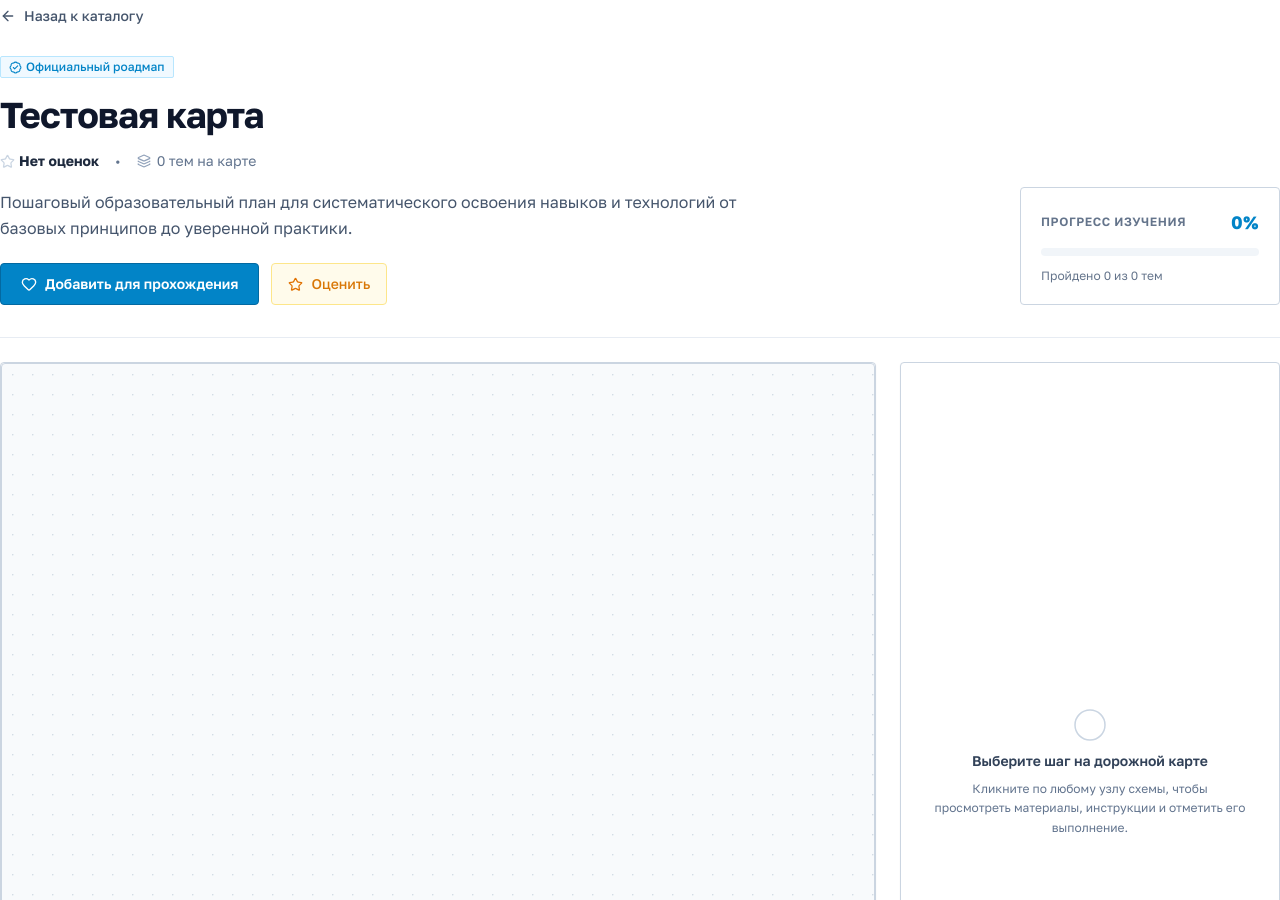
Test case: RoadmapViewerWidget › открывает диалог выбора оценки для авторизованного пользователя
Step 1. Click the button with test id "roadmap-hero-rate-btn" → (330, 284), box [272, 263, 388, 305]
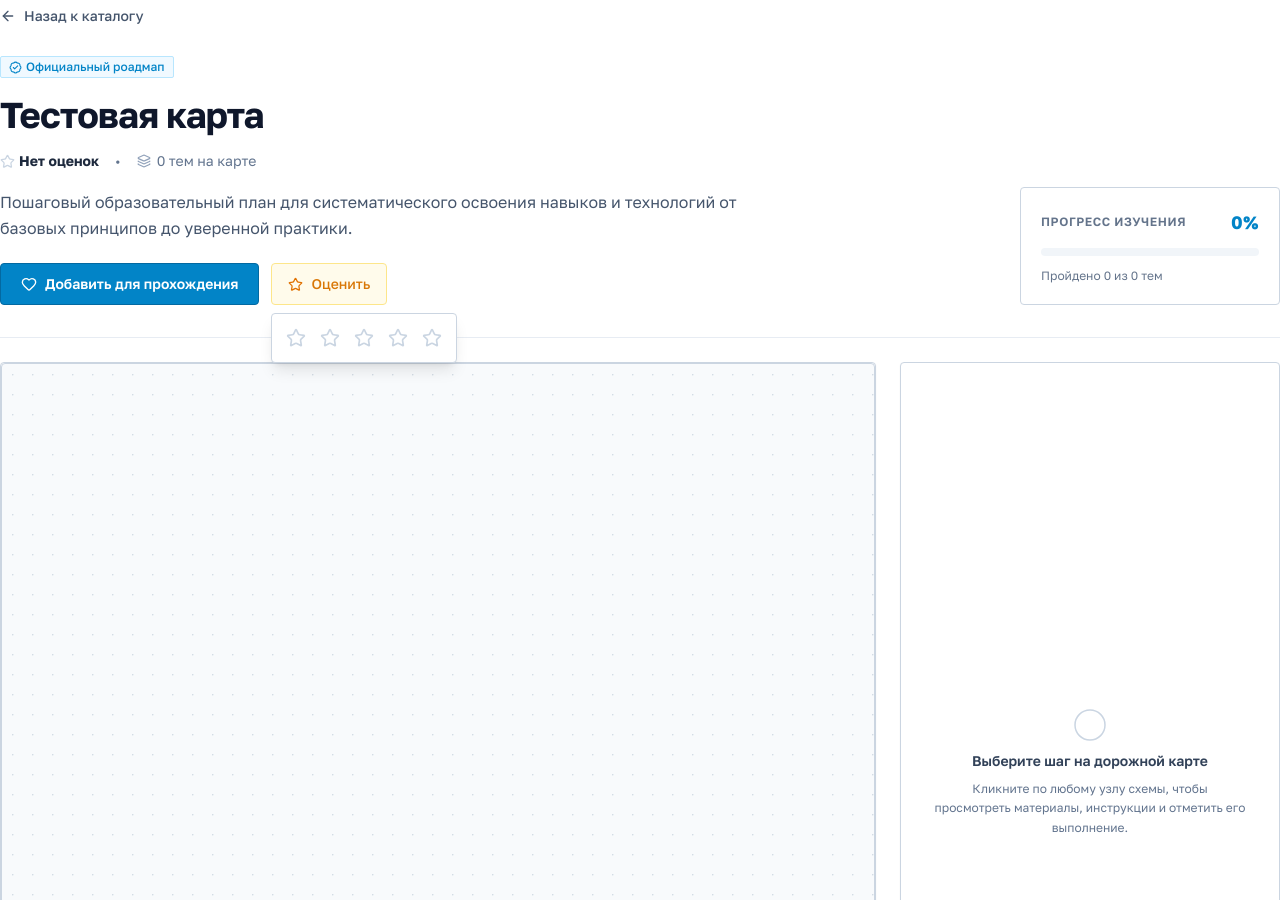
Result: the dialog named "выбор оценки" is shown at [272, 313, 458, 363]
Step 2. Click the button named "Оценка 5" → (432, 338), box [418, 324, 446, 352]
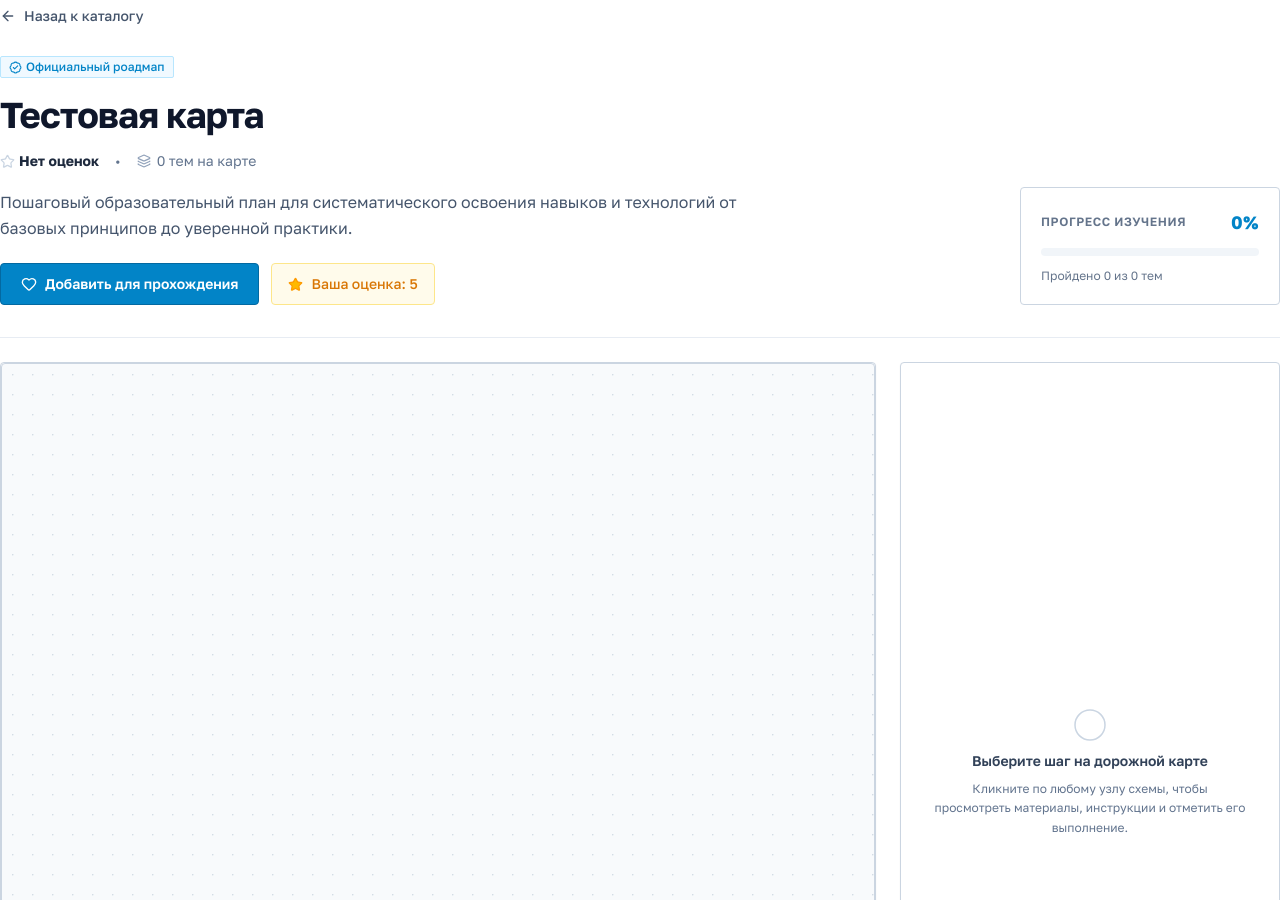
Result: the text "Ваша оценка: 5" is shown at [312, 274, 418, 294]
